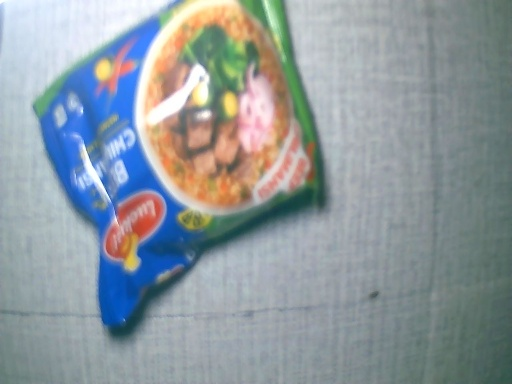plastic: (33, 1, 325, 338)
